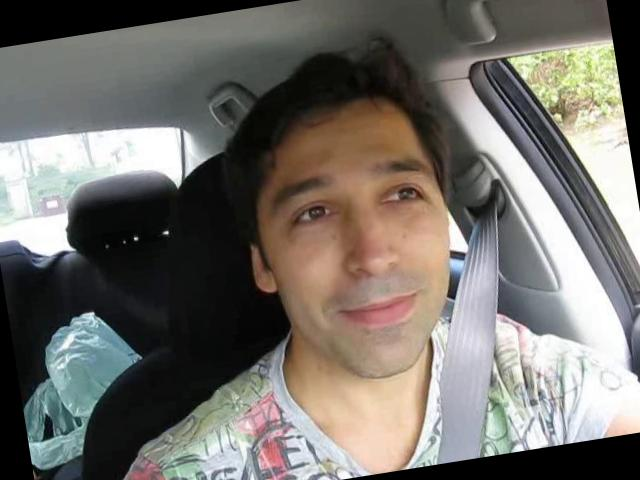eye_open: (374, 174, 432, 216), (283, 194, 342, 235)
face: (260, 145, 477, 388)
